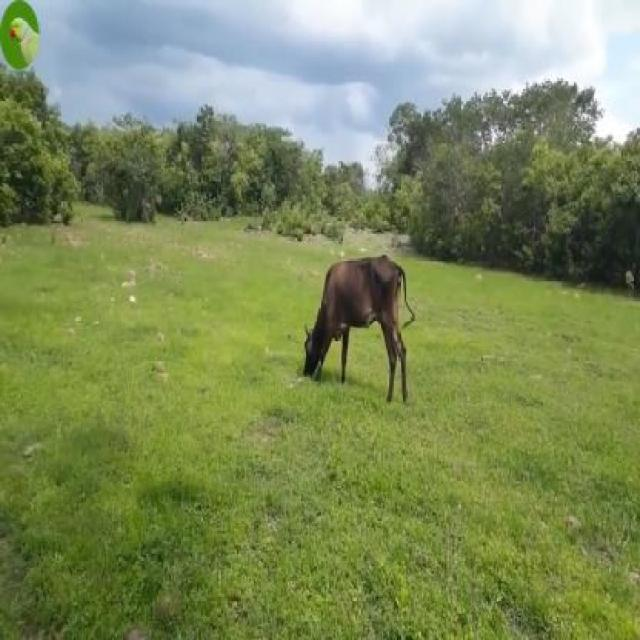Cow: (305, 257, 409, 400)
